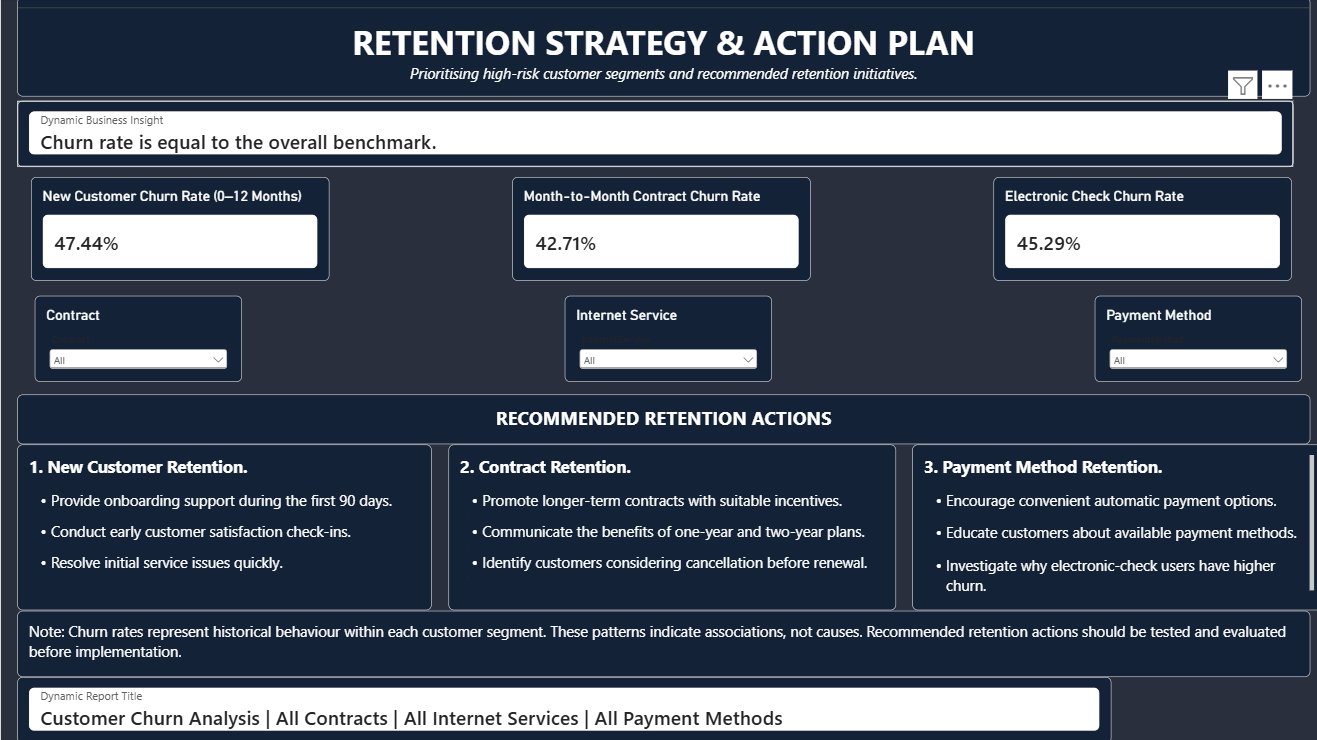

This screenshot's page, from the dashboard's own definition file:
{"tool":"powerbi","page":{"name":"Retention Strategy","canvas":[1920,1080],"ordinal":2},"visuals":[{"type":"cardVisual","title":"New Customer Churn Rate (0–12 Months)","fields":{"Data":["customer_churn_cleaned.Overall Churn Rate"]},"box":[44,260.6,432,150],"z":0},{"type":"cardVisual","title":"Month-to-Month Contract Churn Rate","fields":{"Data":["customer_churn_cleaned.Overall Churn Rate"]},"box":[740,260.6,432,150],"z":1000},{"type":"cardVisual","title":"Electronic Check Churn Rate","fields":{"Data":["customer_churn_cleaned.Overall Churn Rate"]},"box":[1436,260.6,432,150],"z":2000},{"type":"textbox","box":[24,576,1872,72],"z":3000},{"type":"textbox","box":[24,648,600,240],"z":4000},{"type":"textbox","box":[648,648,648,240],"z":5000},{"type":"textbox","box":[1320,648,600,240],"z":6000},{"type":"textbox","box":[24,0,1872,144],"z":7000},{"type":"textbox","box":[24,888,1872,96],"z":8000},{"type":"slicer","title":"Contract","fields":{"Values":["customer_churn_cleaned.Contract"]},"box":[48,432,300,125],"z":9000},{"type":"slicer","title":"Internet Service","fields":{"Values":["customer_churn_cleaned.InternetService"]},"box":[816,432,300,125],"z":9001},{"type":"slicer","title":"Payment Method","fields":{"Values":["customer_churn_cleaned.PaymentMethod"]},"box":[1584,432,300,125],"z":9002},{"type":"cardVisual","fields":{"Data":["customer_churn_cleaned.Dynamic Business Insight"]},"box":[24,150,1848,96],"z":9003},{"type":"cardVisual","fields":{"Data":["customer_churn_cleaned.Dynamic Report Title"]},"box":[24,984,1584,96],"z":9004}]}

Visuals, with their boxes in screenshot pixels (x1, y1, x2, y2), scaled from the page's 1920x1080 canvas onto the 1317x740 screenshot:
"New Customer Churn Rate (0–12 Months)" cardVisual: (30, 179, 327, 281)
"Month-to-Month Contract Churn Rate" cardVisual: (508, 179, 804, 281)
"Electronic Check Churn Rate" cardVisual: (985, 179, 1281, 281)
textbox: (16, 395, 1301, 444)
textbox: (16, 444, 428, 608)
textbox: (444, 444, 889, 608)
textbox: (905, 444, 1316, 608)
textbox: (16, 0, 1301, 99)
textbox: (16, 608, 1301, 674)
"Contract" slicer: (33, 296, 239, 382)
"Internet Service" slicer: (560, 296, 766, 382)
"Payment Method" slicer: (1087, 296, 1292, 382)
cardVisual - customer_churn_cleaned.Dynamic Business Insight: (16, 103, 1284, 169)
cardVisual - customer_churn_cleaned.Dynamic Report Title: (16, 674, 1103, 739)
